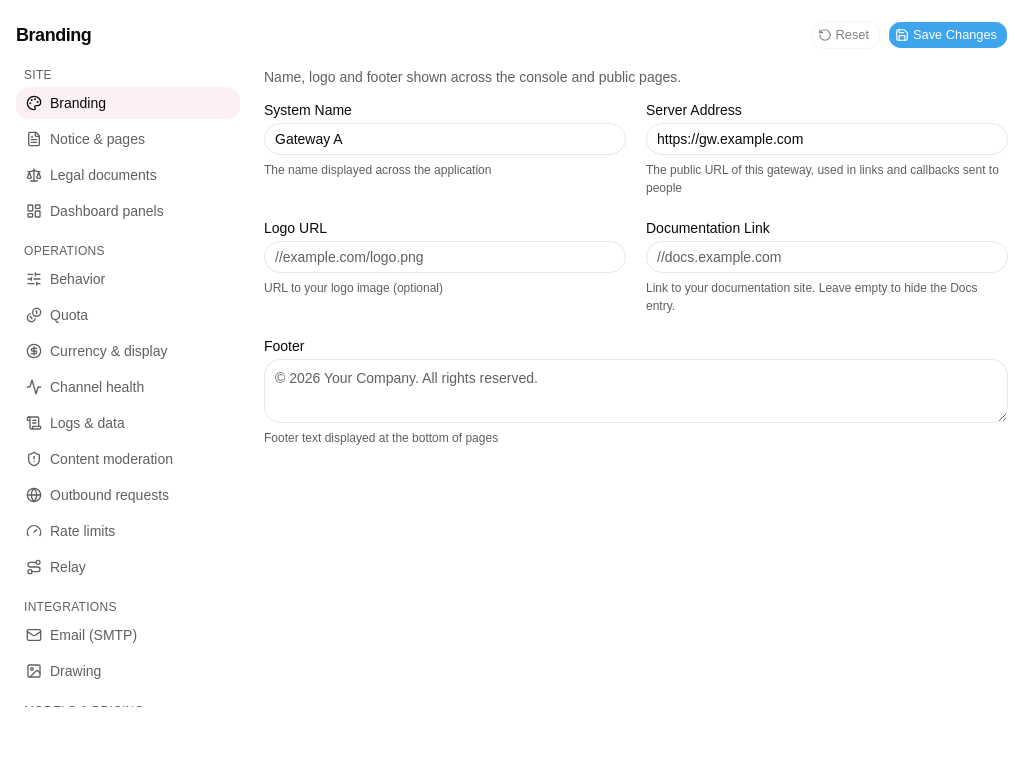
Scenario: option engine › stops at the first refused key and leaves the rest dirty
Replace the text in the field labelled "System Name" with "X" at x=445, y=139, box 264,123 -> 626,155
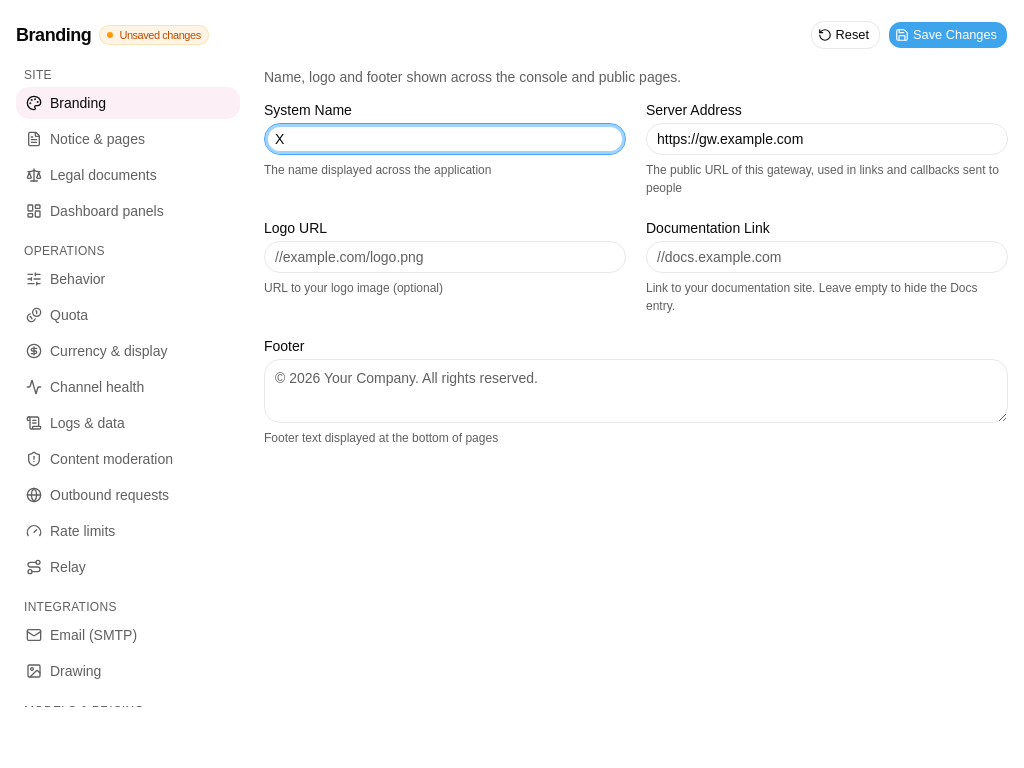
Type "f" into the text box labelled "Footer" at x=636, y=391, box 264,359 -> 1008,423
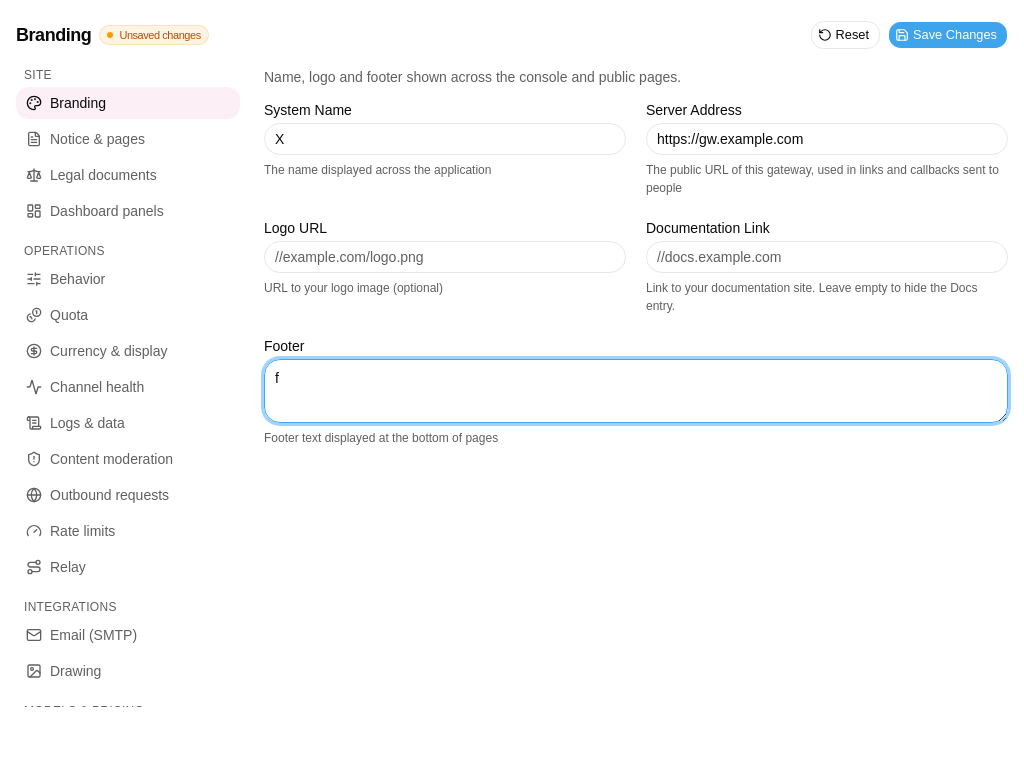
Click the button "Save Changes" at x=948, y=35, box 888,21 -> 1008,49
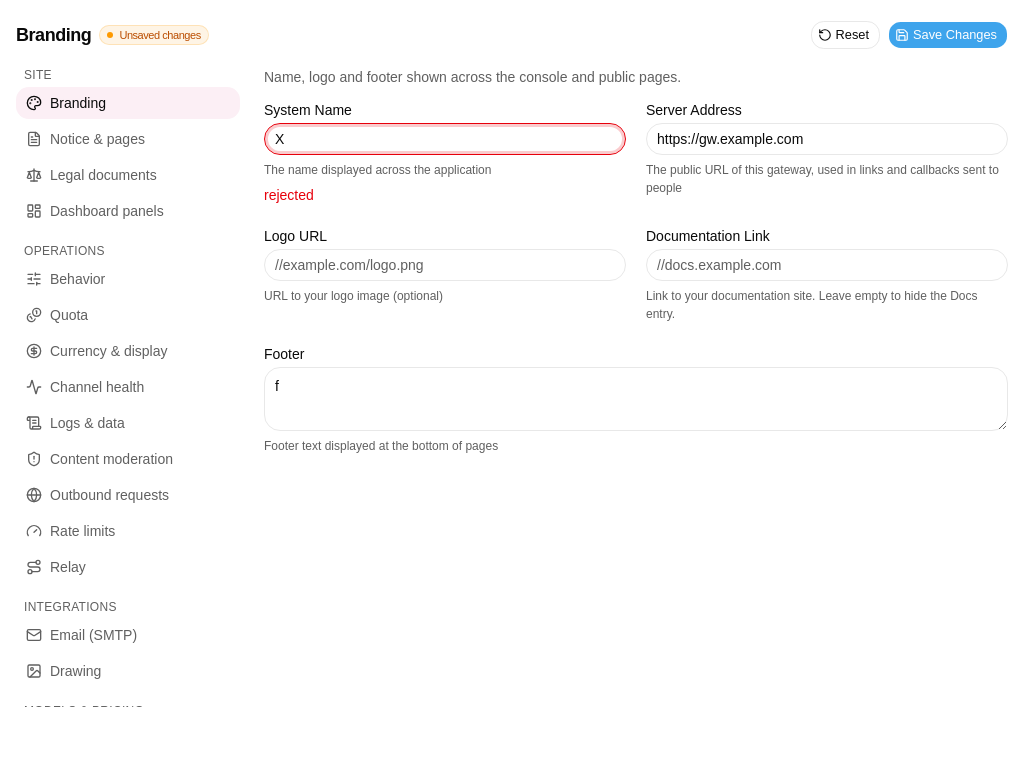
Expected: the text "rejected" is shown, 264,187 -> 314,203
